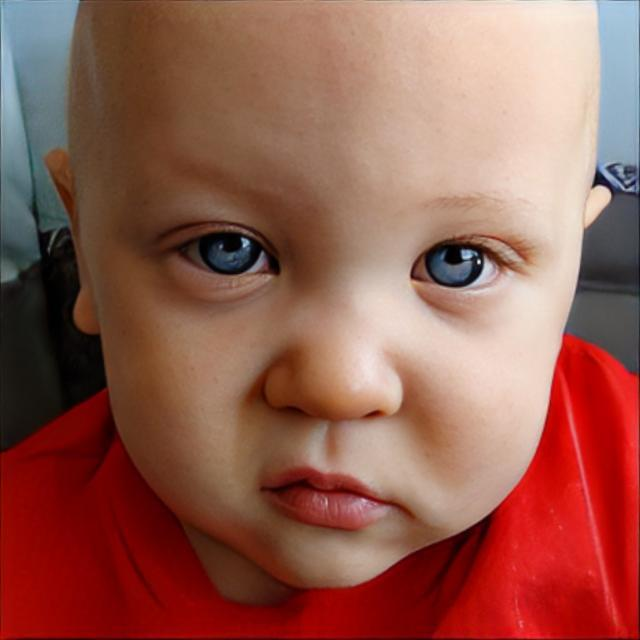anger: (67, 0, 586, 592)
